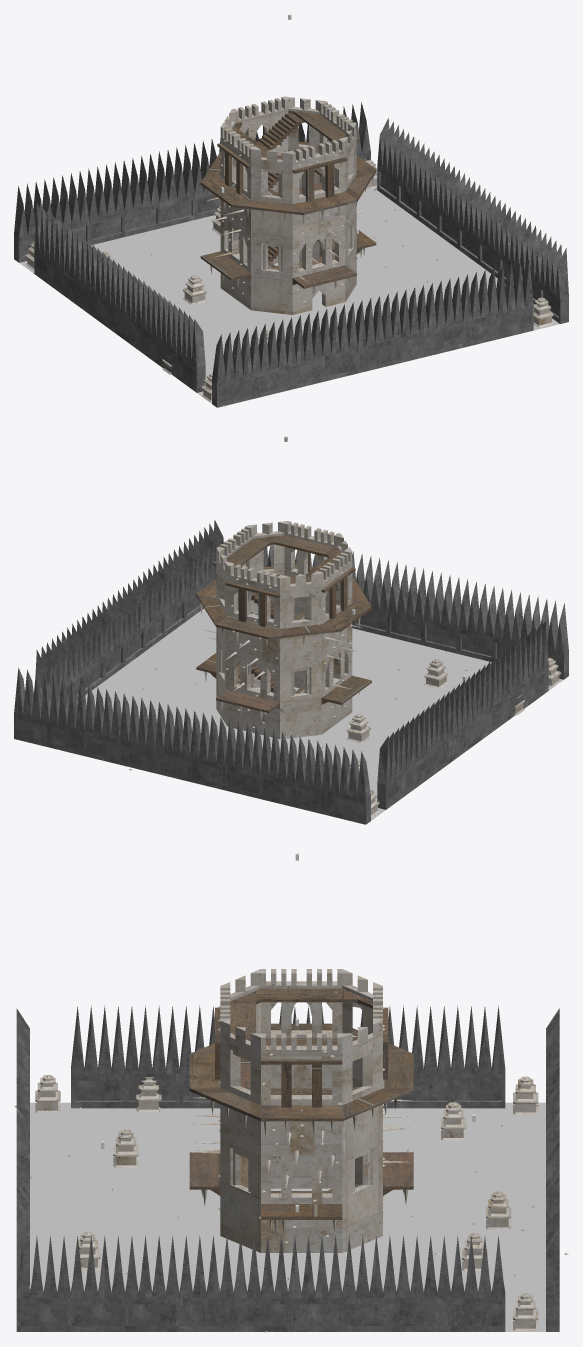
File: map.gltf
3 views of the same model, one above another, from view 1: azimuth 30°, elevation 25°; view 2: azimuth 150°, elevation 25°; view 3: azimuth 270°, elevation 25° (orthographic). The views are drawn at different scales.
Visible parts, largest first — view 1: Material8, Material0, Material2, Material5.160, Material4; view 2: Material8, Material0, Material2, Material5.160, Material4; view 3: Material8, Material2, Material0, Material5.160, Material4.
Part boxes in pixels (x1,y1,x2,y2): Material8: (14, 102, 568, 407); Material0: (220, 96, 356, 314); Material2: (19, 186, 559, 403); Material5.160: (25, 126, 553, 406); Material4: (232, 111, 345, 269); Material8: (14, 520, 568, 824); Material0: (216, 521, 352, 739); Material2: (77, 608, 563, 820); Material5.160: (129, 552, 560, 817); Material4: (227, 535, 340, 693); Material8: (16, 1005, 559, 1331); Material2: (30, 1102, 545, 1331); Material0: (220, 969, 382, 1252); Material5.160: (14, 1006, 568, 1332); Material4: (230, 988, 372, 1193).
Size of the model in its own units: 121 by 88.88 by 123.
